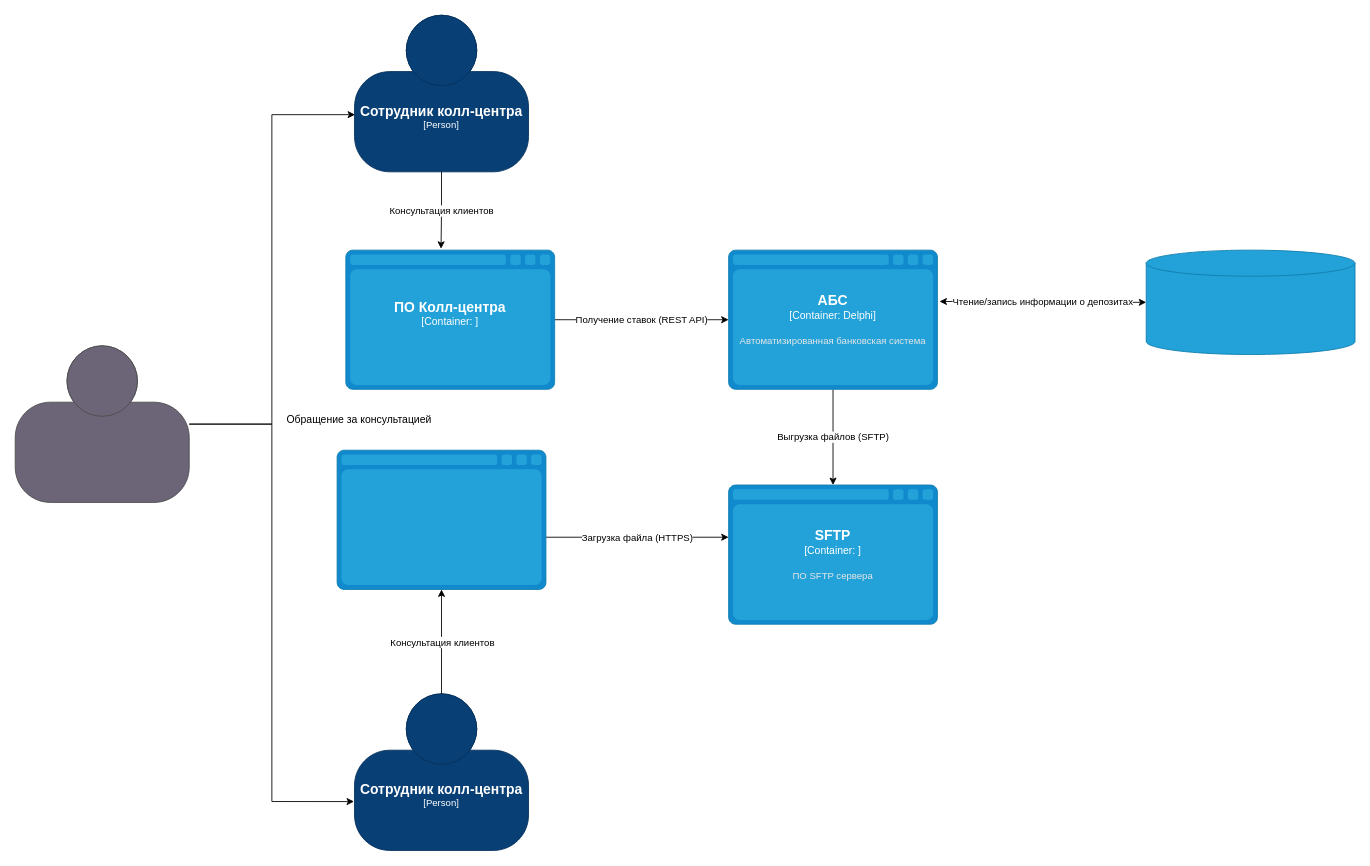
The diagram is 1370 pixels wide and 866 high, and some of its shapes have lost their labels. The shapes that lost their labels are listed below. From the top down, each one's centre as x and y in pixels, then its label:
At pixel 1250 302: "База данных АБС [Container: MSSQL]".
At pixel 101 423: "Клиент [Person] Клиент".
At pixel 441 519: "ПО Колл-центра [Container: ] Партнерское ПО".
